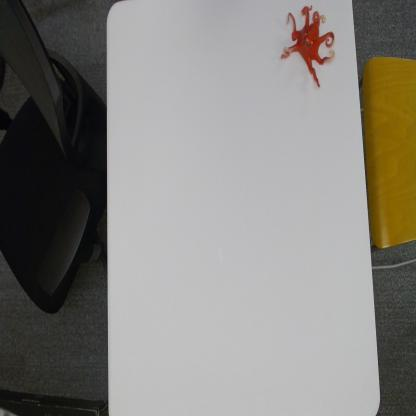Octopus: (280, 4, 336, 91)
